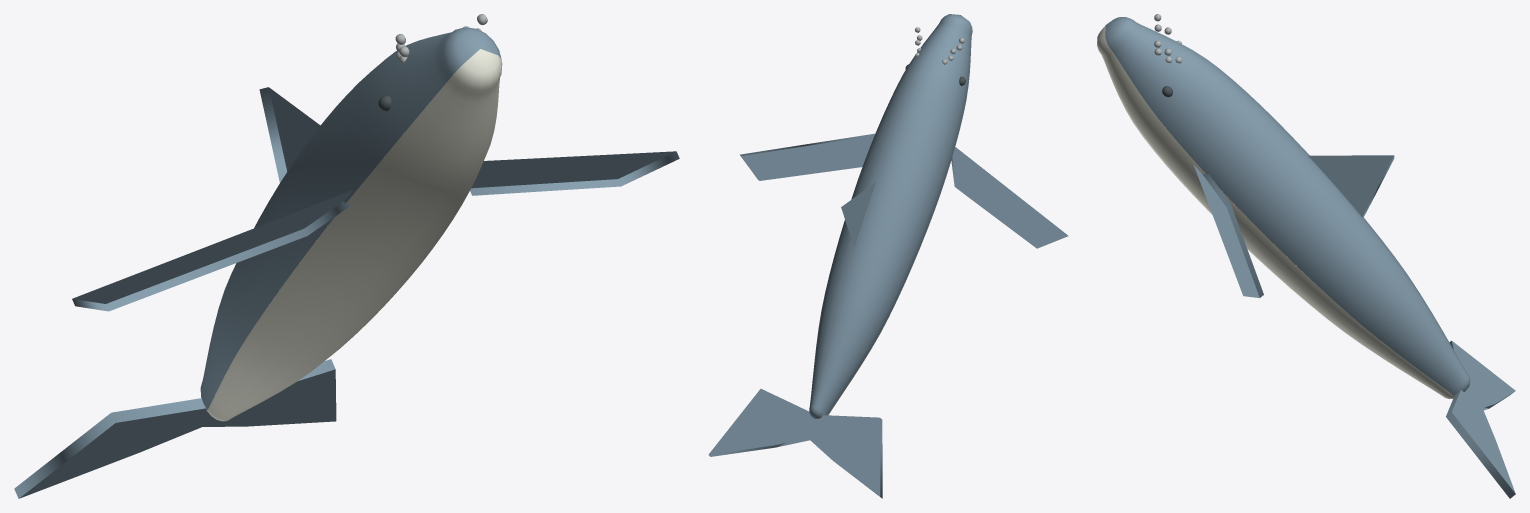
The model's file is open-ocean-and-deep-sea-life-humpback-breaching-2785f756__5879.glb.
3 views of the same model, side by side, from view 1: azimuth 30°, elevation 25°; view 2: azimuth 150°, elevation 25°; view 3: azimuth 270°, elevation 25° (orthographic). The views are drawn at different scales.
Parts seen in each view (by area): view 1: humpback-breaching; view 2: humpback-breaching; view 3: humpback-breaching.
Boxes of the visible parts, bbox=[...] form: humpback-breaching: bbox=[14, 14, 679, 498]; humpback-breaching: bbox=[708, 14, 1068, 498]; humpback-breaching: bbox=[1097, 14, 1515, 498].
Bounding box in the file's own units: 15.57 × 15.8 × 14.
